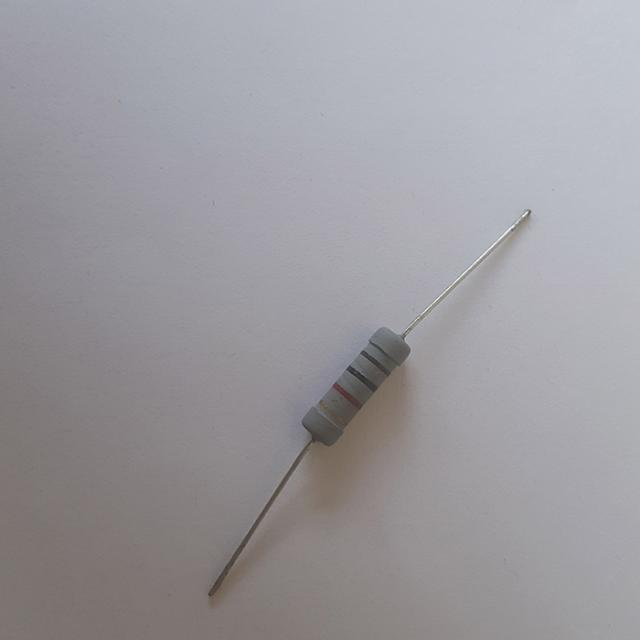black: (347, 364, 376, 390)
brown: (359, 349, 389, 373)
gold: (317, 400, 346, 429)
red: (332, 382, 360, 409)
resistor: (289, 317, 421, 453)
